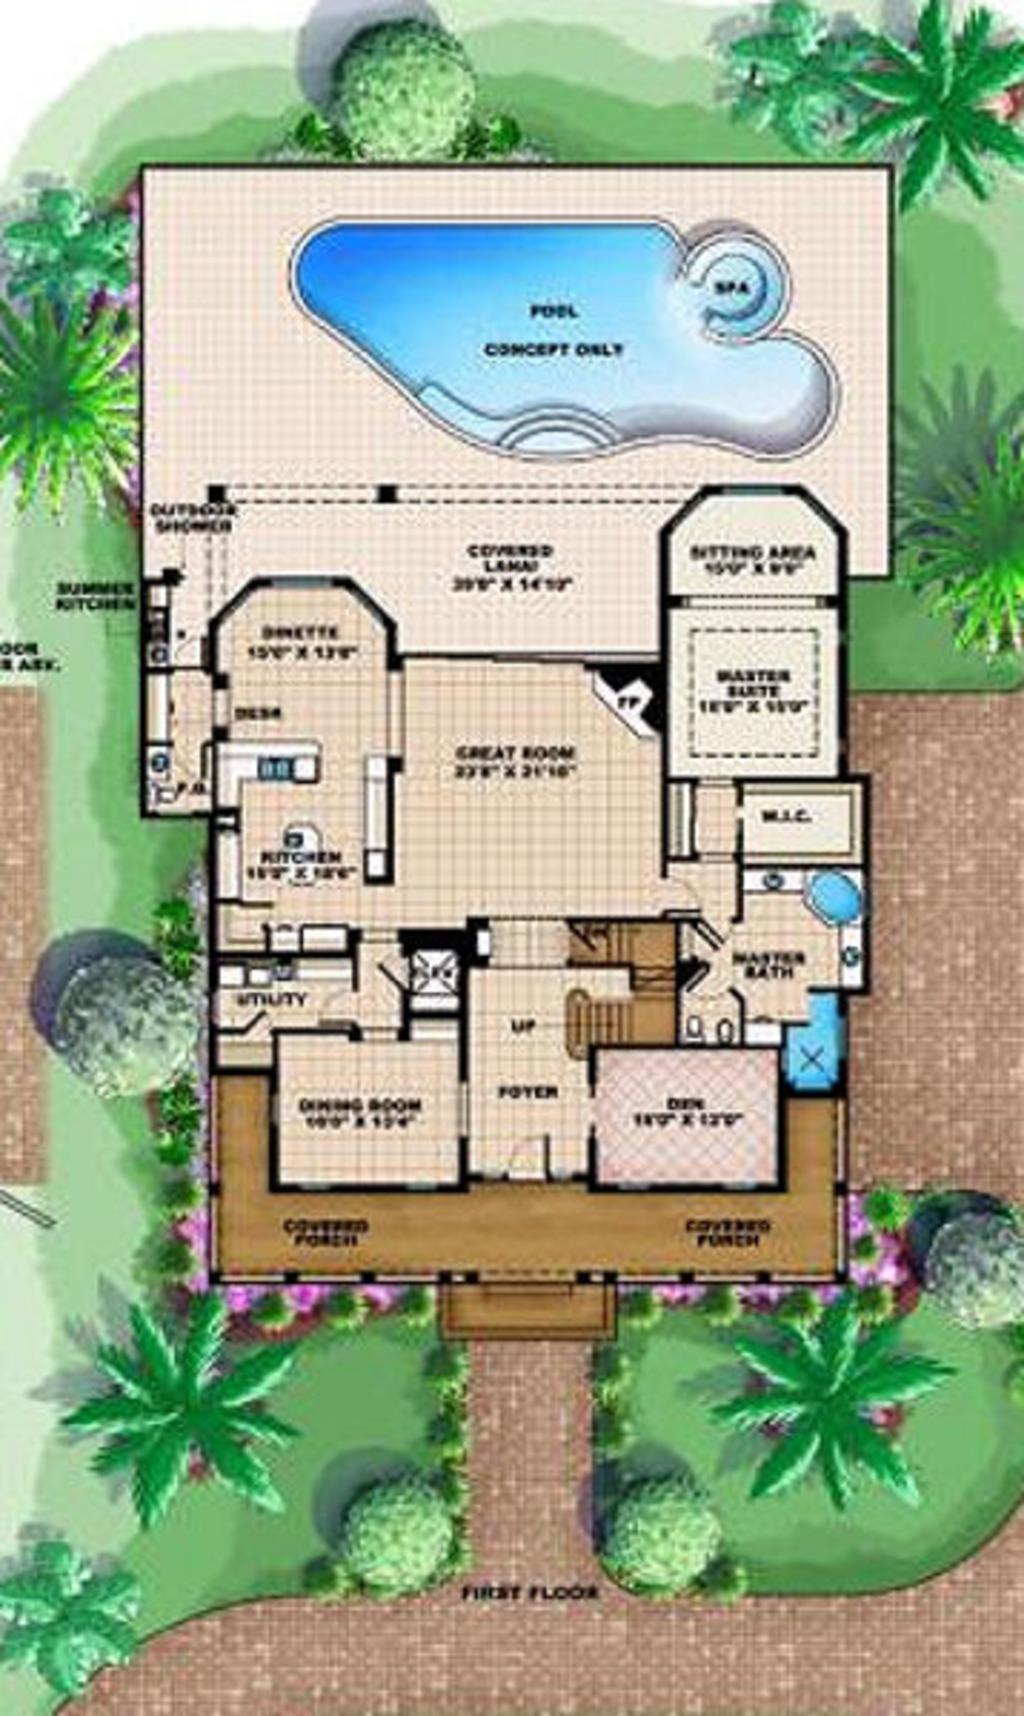door: (501, 1129, 556, 1179), (316, 981, 358, 1032)
small_sink: (741, 871, 798, 898)
stairs: (567, 912, 681, 1071)
tub: (798, 871, 861, 936)
